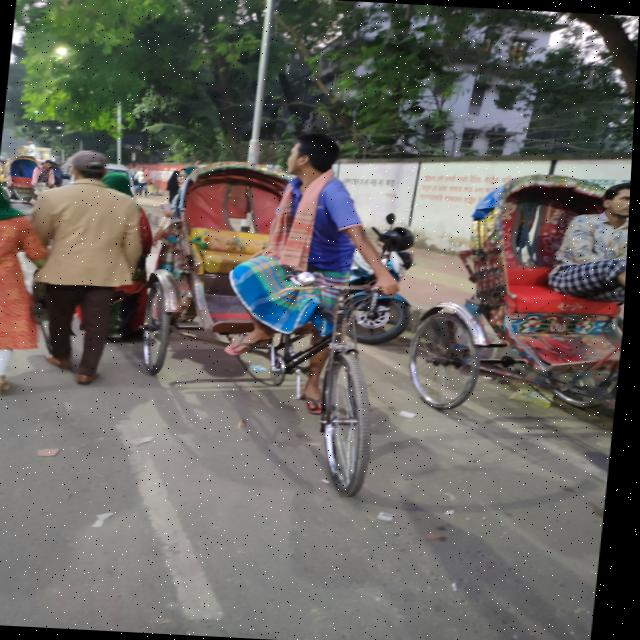rikshaw: (133, 127, 438, 539), (425, 153, 634, 491)
